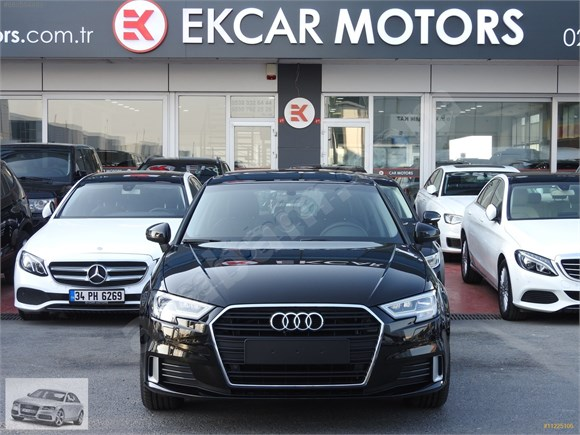audi: (266, 309, 330, 332)
